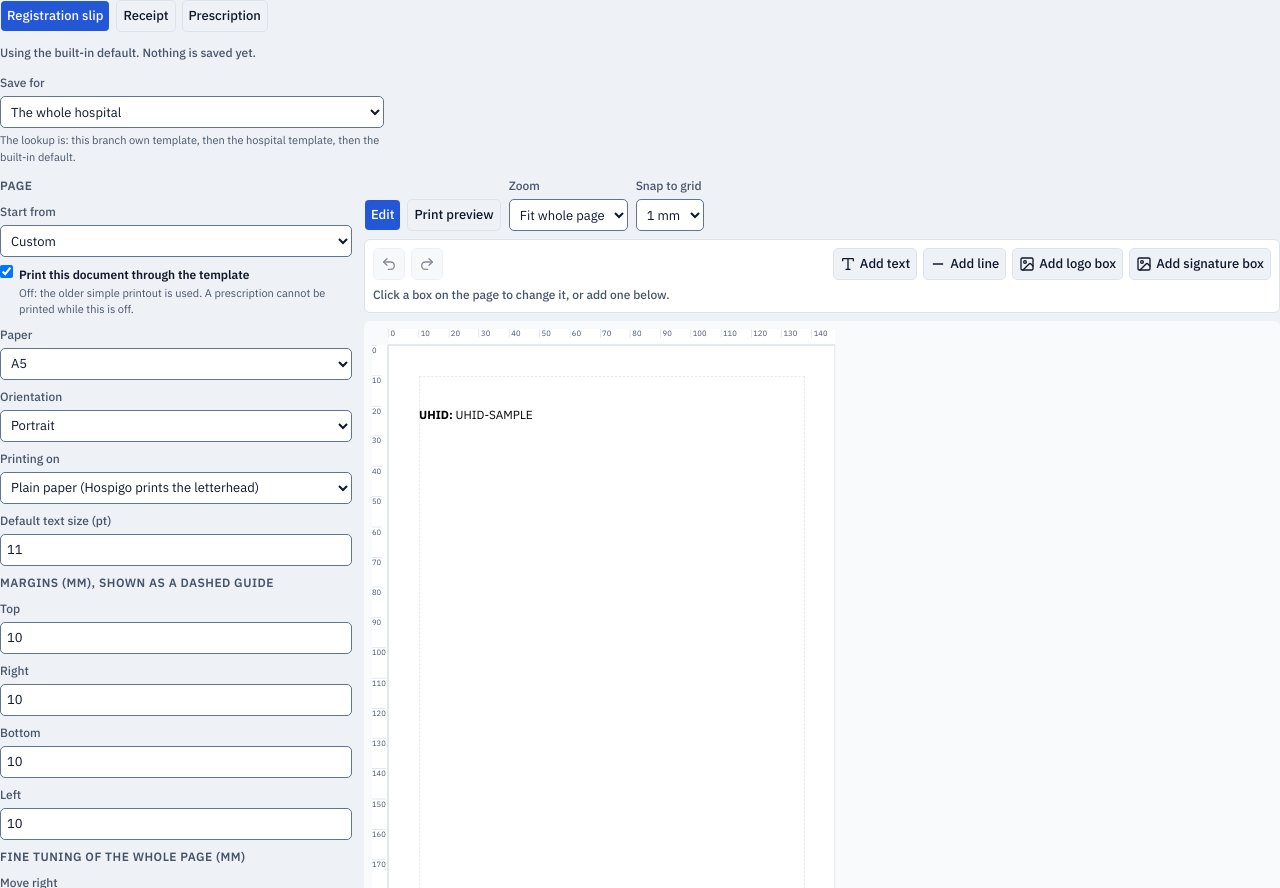
Scenario: selecting a box › a click selects a box; clicking the page empty selects nothing
This screenshot has width=1280, height=888.
Click the button "Receipt" at (146, 16), box top-left (116, 0), bottom-right (176, 32)
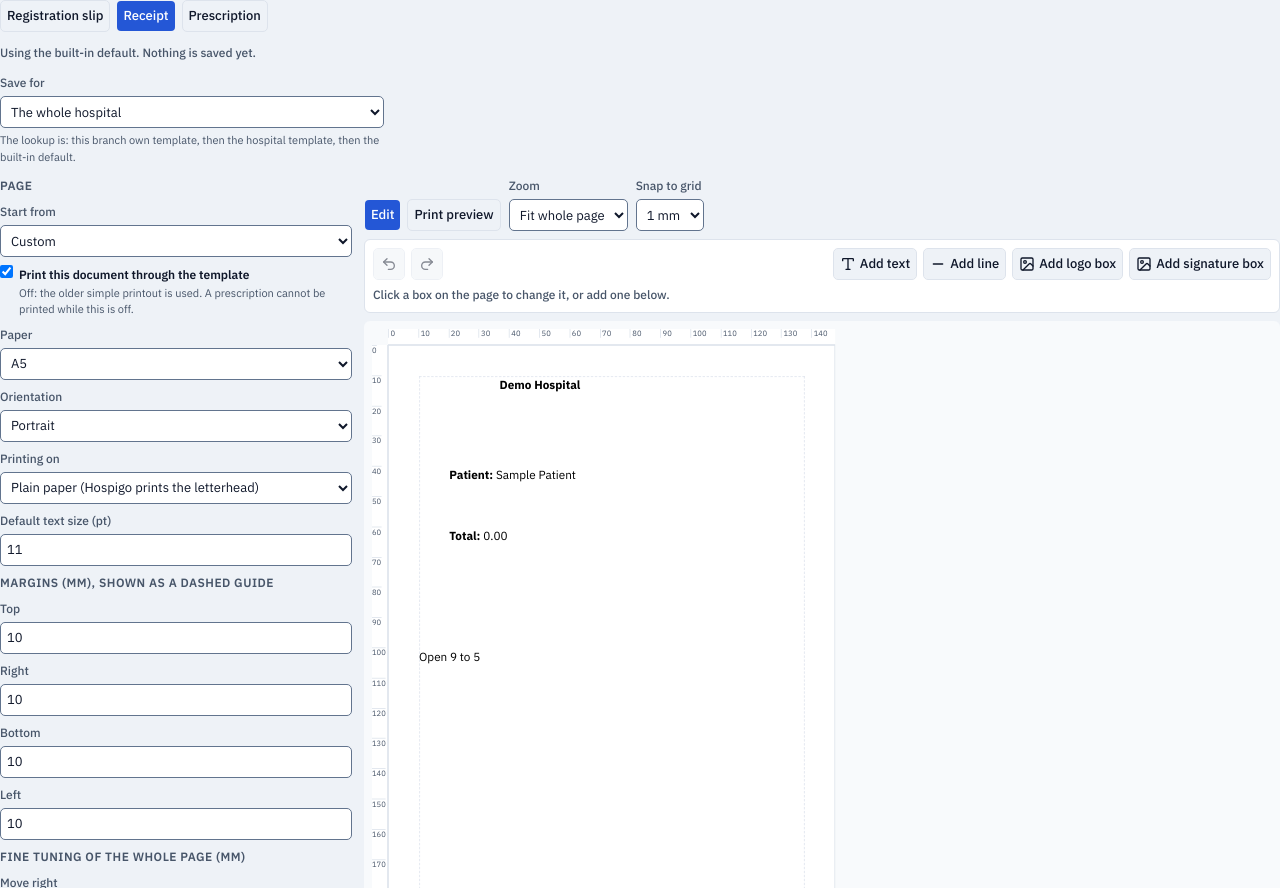
Expected: the text "Click a box on the page to change it, or add one below." is shown, top-left (373, 287), bottom-right (670, 302)
Press the mouse on the button "Patient: Sample Patient" at (513, 475), box top-left (449, 468), bottom-right (576, 483)
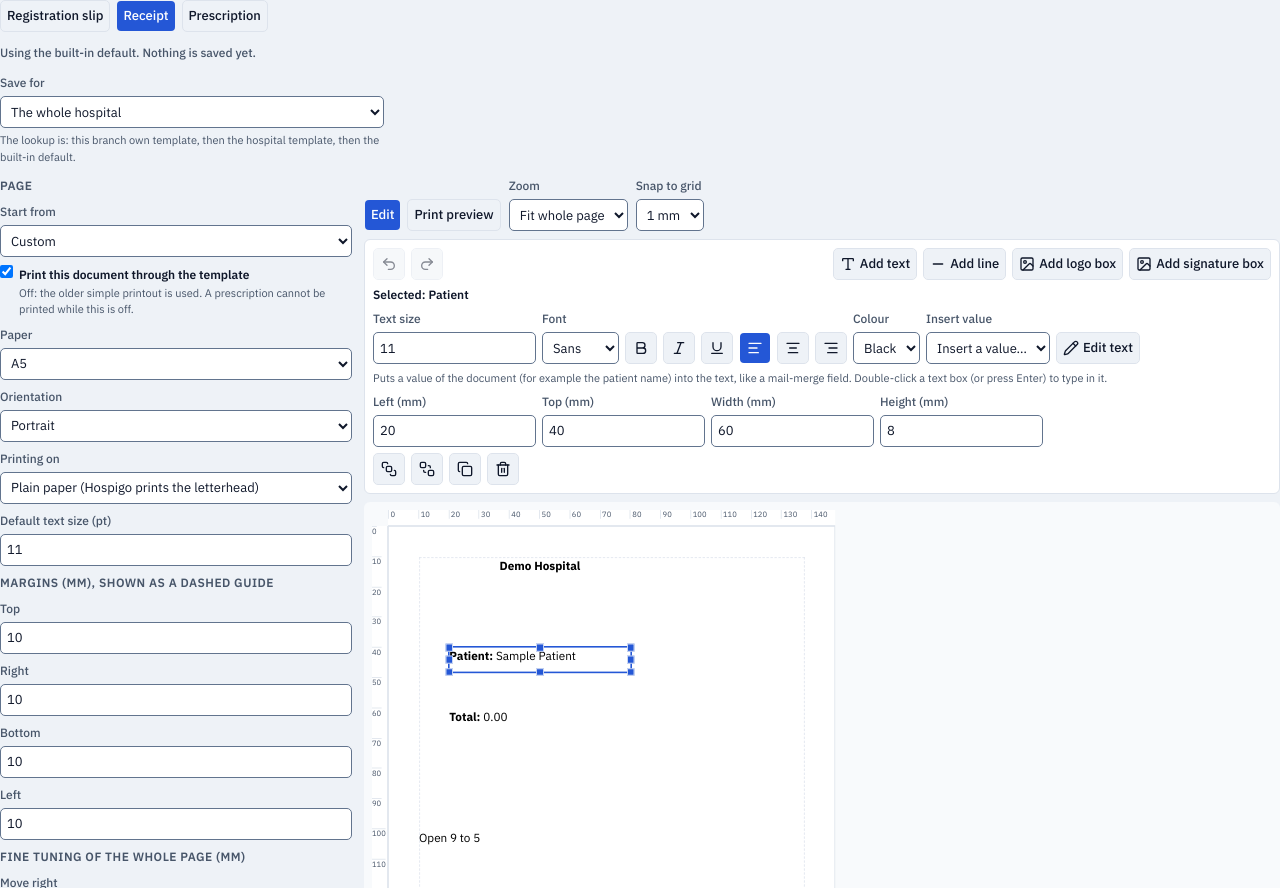
Press the mouse on the button "Open 9 to 5" at (450, 837), box top-left (419, 830), bottom-right (480, 845)
(page scrolled)
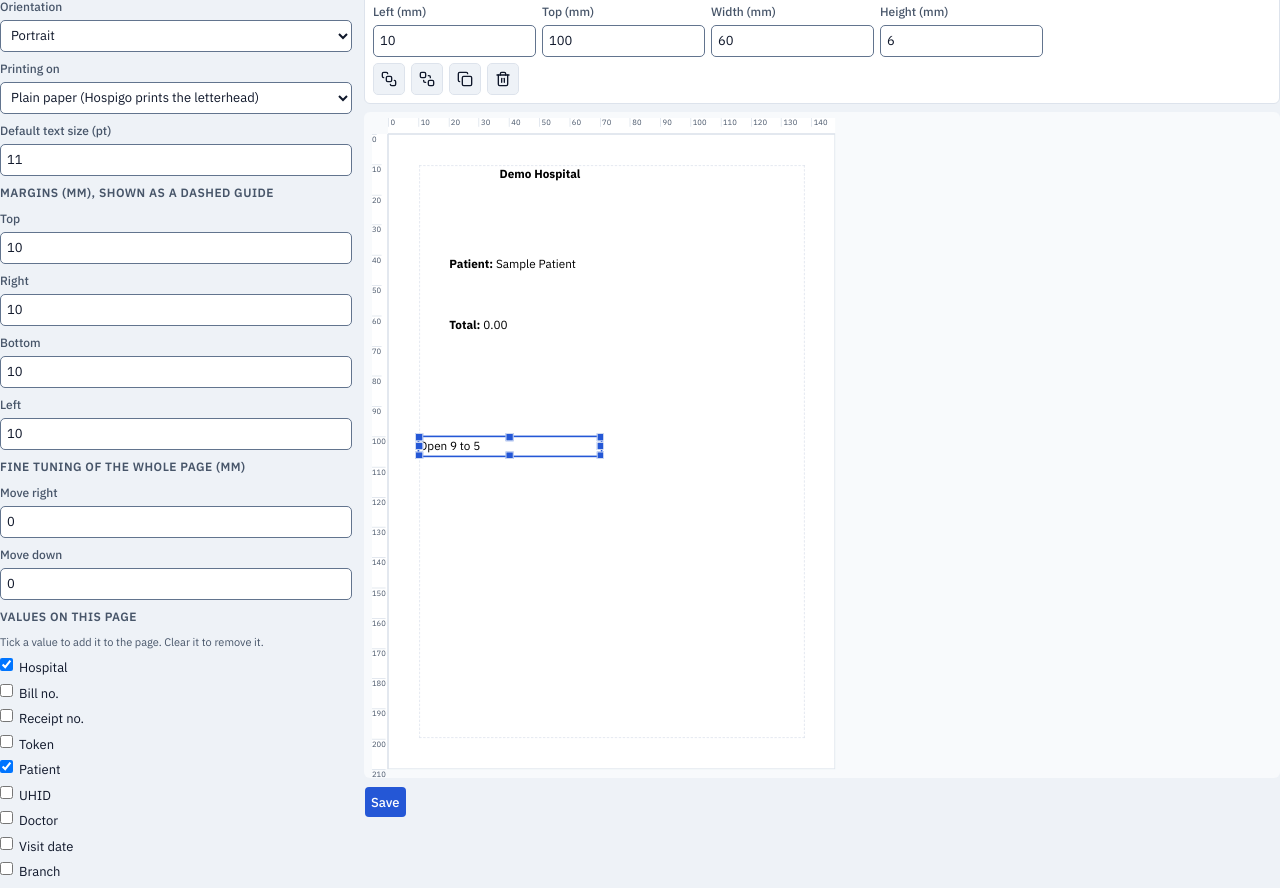
Expected: the text "Click a box on the page to change it, or add one below." is not shown
Press the mouse on the element named "The page. Click a box to select it, drag it to move it, use" at (612, 451), box top-left (388, 134), bottom-right (836, 768)
(page scrolled)
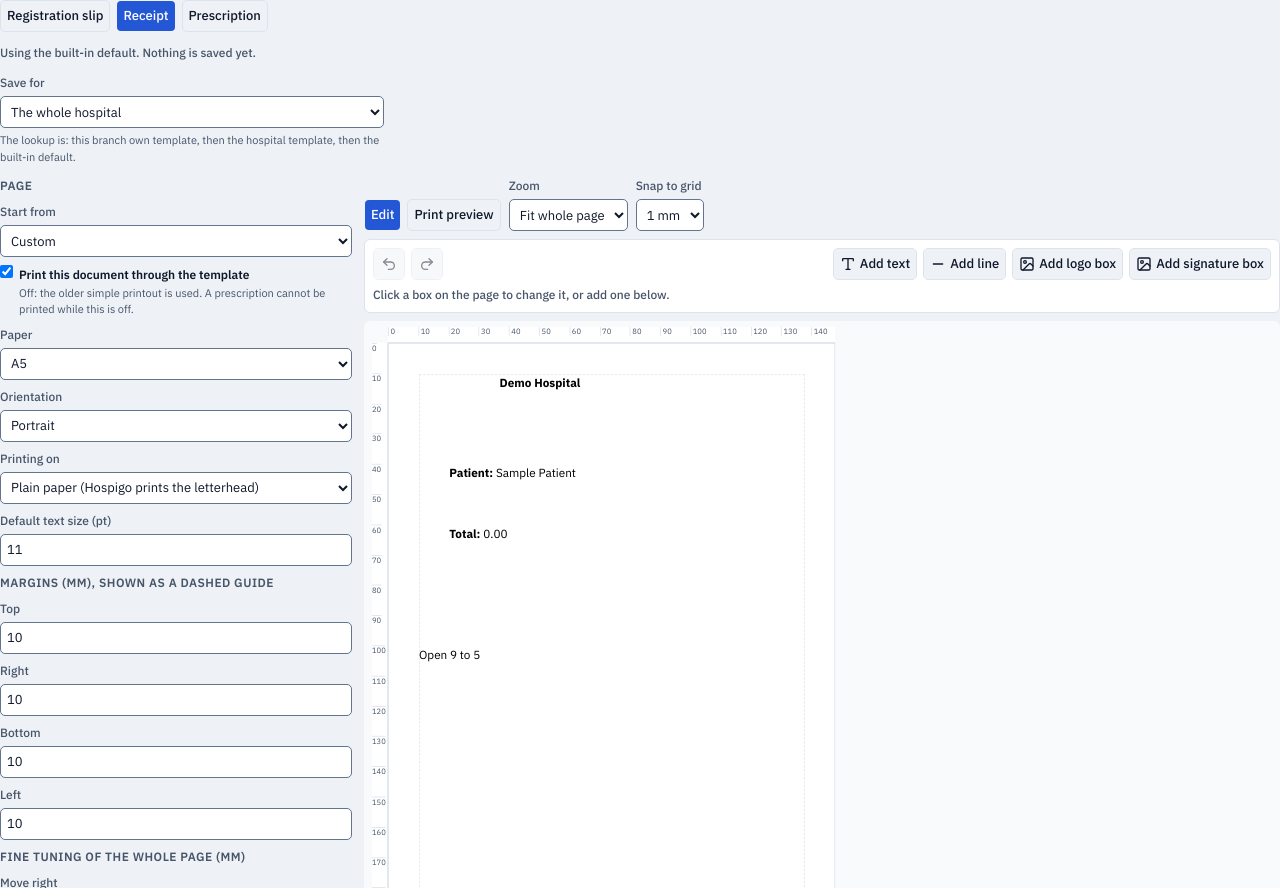
Result: the text "Click a box on the page to change it, or add one below." is shown at top-left (373, 287), bottom-right (670, 302)
